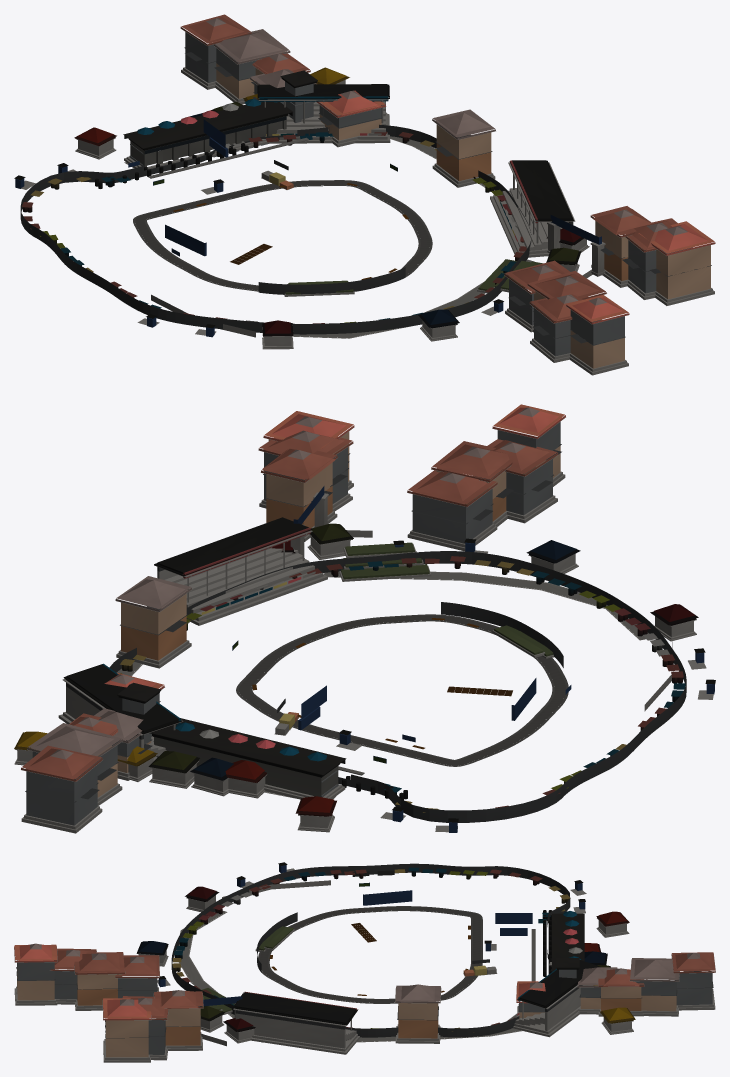
The model's file is albert-park-lod1.glb.
3 renders of one model, top to bottom at view 1: azimuth 30°, elevation 25°; view 2: azimuth 150°, elevation 25°; view 3: azimuth 270°, elevation 25°, orthographic. The views are drawn at different scales.
Parts seen in each view (by area): view 1: fringe:grand-prix-park-buildings, fringe:grand-prix-track-furniture, fringe:grand-prix-paths-furniture, fringe:grand-prix-pit-building, fringe:grand-prix-grandstand-main, fringe:grand-prix-event-structures, fringe:grand-prix-grandstand-north, fringe:grand-prix-signs-lights, fringe:grand-prix-entry-gates, fringe:grand-prix-timing-tower, fringe:grand-prix-spectator-banks; view 2: fringe:grand-prix-park-buildings, fringe:grand-prix-track-furniture, fringe:grand-prix-event-structures, fringe:grand-prix-paths-furniture, fringe:grand-prix-grandstand-main, fringe:grand-prix-pit-building, fringe:grand-prix-grandstand-north, fringe:grand-prix-spectator-banks, fringe:grand-prix-signs-lights, fringe:grand-prix-entry-gates, fringe:grand-prix-timing-tower; view 3: fringe:grand-prix-park-buildings, fringe:grand-prix-track-furniture, fringe:grand-prix-paths-furniture, fringe:grand-prix-grandstand-main, fringe:grand-prix-event-structures, fringe:grand-prix-grandstand-north, fringe:grand-prix-pit-building, fringe:grand-prix-signs-lights, fringe:grand-prix-entry-gates, fringe:grand-prix-spectator-banks, fringe:grand-prix-timing-tower, fringe:grand-prix-podium.
Part boxes in pixels (x1,y1,x2,y2): fringe:grand-prix-park-buildings: (180,14,715,375); fringe:grand-prix-track-furniture: (20,124,531,334); fringe:grand-prix-paths-furniture: (95,136,592,338); fringe:grand-prix-pit-building: (123,99,308,178); fringe:grand-prix-grandstand-main: (490,160,575,257); fringe:grand-prix-event-structures: (74,67,589,349); fringe:grand-prix-grandstand-north: (257,84,390,143); fringe:grand-prix-signs-lights: (14,119,527,337); fringe:grand-prix-entry-gates: (165,215,605,276); fringe:grand-prix-timing-tower: (280,70,317,122); fringe:grand-prix-spectator-banks: (284,259,542,296); fringe:grand-prix-park-buildings: (21,404,565,833); fringe:grand-prix-track-furniture: (109,551,686,822); fringe:grand-prix-event-structures: (14,523,698,832); fringe:grand-prix-paths-furniture: (117,530,673,800); fringe:grand-prix-grandstand-main: (154,517,327,625); fringe:grand-prix-pit-building: (149,718,364,799); fringe:grand-prix-grandstand-north: (58,663,183,760); fringe:grand-prix-spectator-banks: (339,542,554,658); fringe:grand-prix-signs-lights: (232,538,715,832); fringe:grand-prix-entry-gates: (290,486,536,720); fringe:grand-prix-timing-tower: (117,682,161,736); fringe:grand-prix-park-buildings: (14,943,715,1062); fringe:grand-prix-track-furniture: (171,863,570,1037); fringe:grand-prix-paths-furniture: (177,880,552,1046); fringe:grand-prix-grandstand-main: (231,991,359,1054); fringe:grand-prix-event-structures: (136,886,635,1043); fringe:grand-prix-grandstand-north: (507,957,600,1037); fringe:grand-prix-pit-building: (531,911,584,981); fringe:grand-prix-signs-lights: (157,862,586,987); fringe:grand-prix-entry-gates: (198,890,412,1017); fringe:grand-prix-spectator-banks: (195,926,294,1014); fringe:grand-prix-timing-tower: (556,958,579,978); fringe:grand-prix-podium: (463,959,497,976).
Bounding box in the file's own units: 91.91 × 12.12 × 142.
Materials: 6 (6 with a texture image).
